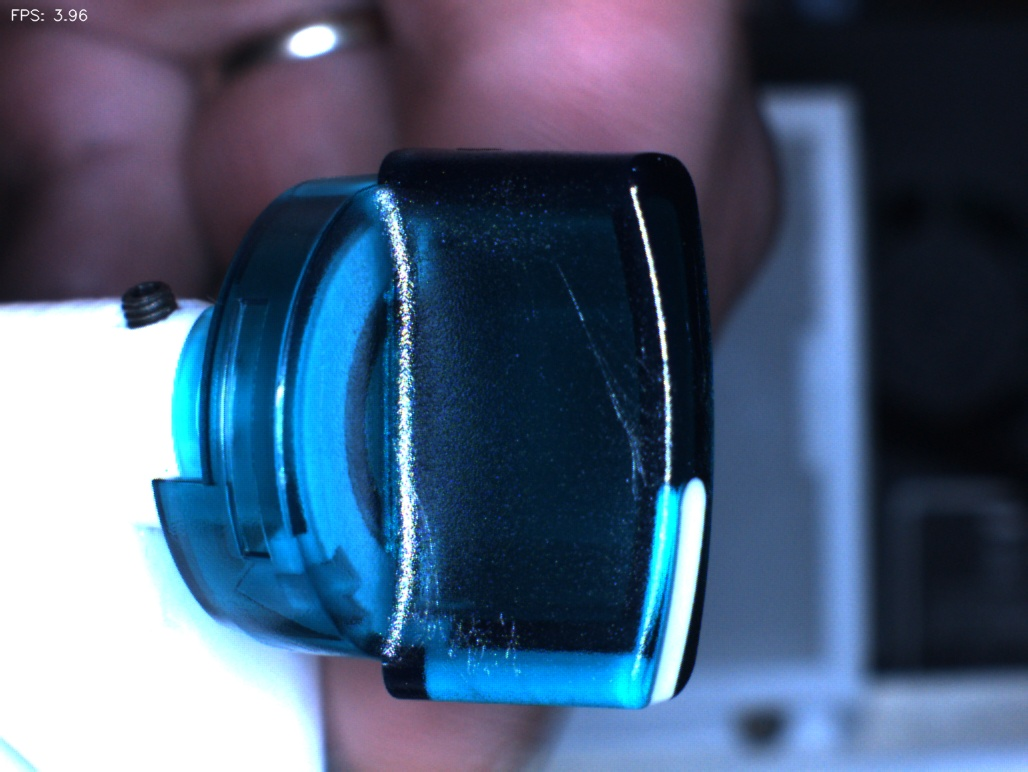Givrage: (435, 595, 524, 688)
